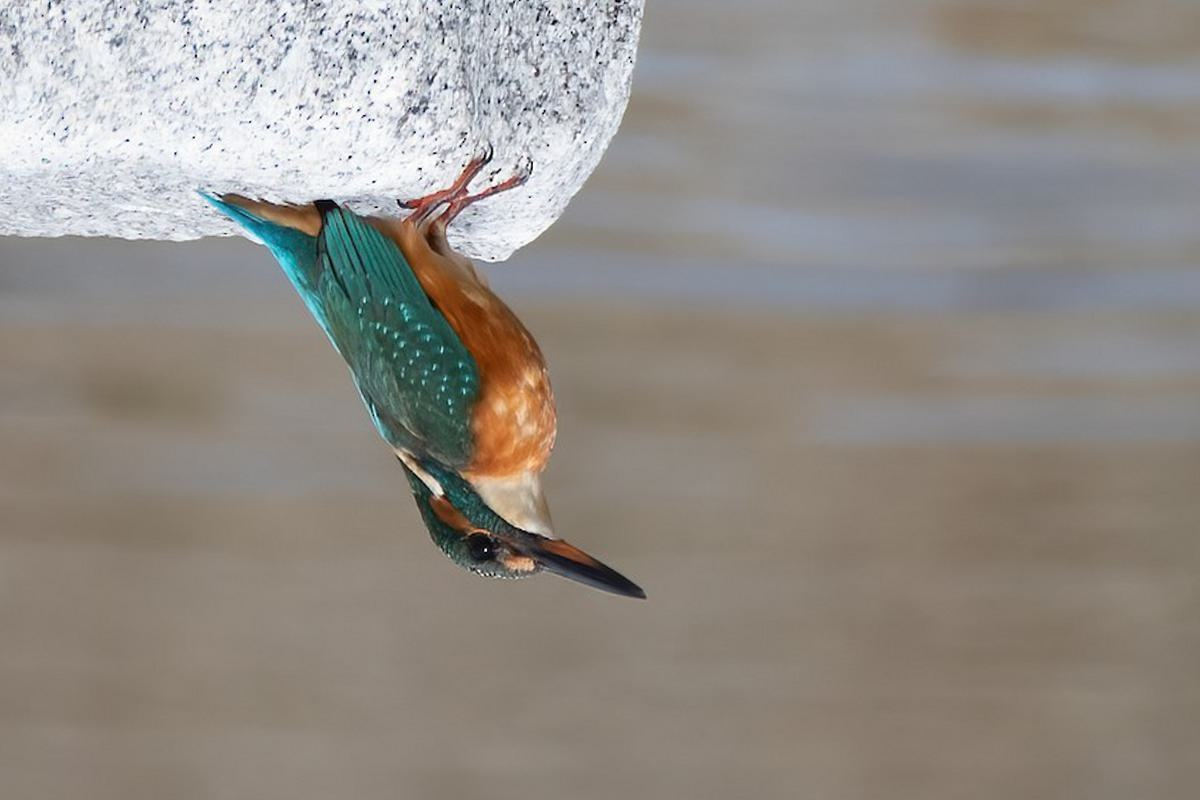kingfisher: (239, 163, 664, 634)
